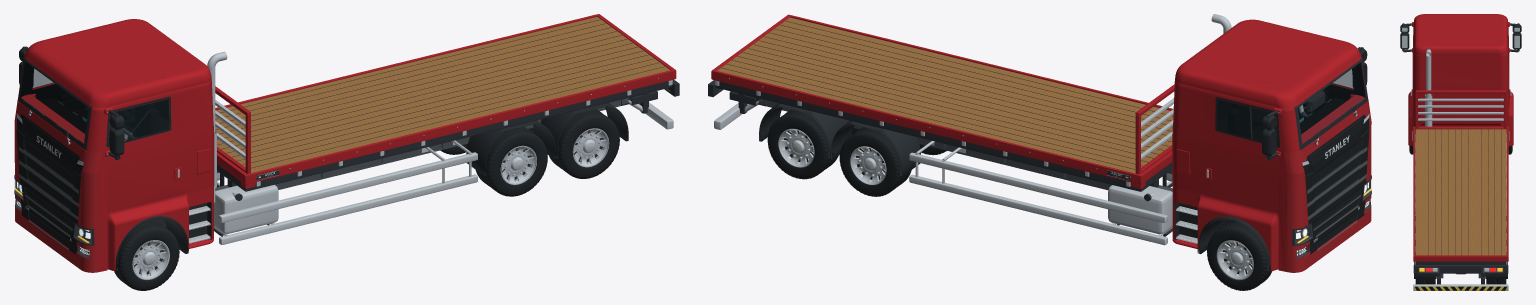
File: Truck (2).glb
3 renders of one model, left to right at view 1: azimuth 30°, elevation 25°; view 2: azimuth 150°, elevation 25°; view 3: azimuth 270°, elevation 25°, orthographic. The views are drawn at different scales.
Parts seen in each view (by area): view 1: Ascot deck_372, Seamless cab and high roof_12_73, Unified recessed front facade_20_65, Ascot bed rail_374, Ascot body subframe_360, Windscreen glass_14_3, Cab continuous smooth painted arch and lower body_118, Rounded radial tyre_17 axle 1_40, Ascot thick side protection rail_601, Ascot thick side protection rail_602, Rounded radial tyre_17 axle 2_57, Rounded radial tyre_17 axle 0_23 (+23 smaller); view 2: Ascot deck_372, Seamless cab and high roof_12_73, Unified recessed front facade_20_65, Ascot bed rail_373, Ascot body subframe_360, Windscreen glass_14_3, Cab continuous smooth painted arch and lower body_115, Rounded radial tyre_17 axle 1_40, Ascot thick side protection rail_554, Ascot thick side protection rail_555, Rounded radial tyre_17 axle 2_57, Rounded radial tyre_17 axle 0_23 (+24 smaller); view 3: Ascot deck_372, Seamless cab and high roof_12_73, Ascot one-piece standard rear light bar_377, Ascot bed end rail_376, Ascot rear bumper_392, Ascot headboard top cap_425, Ascot headboard square horizontal safety bar_429, Ascot body subframe_360, Cab continuous smooth painted arch and lower body_115, Cab continuous smooth painted arch and lower body_118, Rear bumper tape backing_393, Stanley round rearward exhaust_629 (+27 smaller).
Boxes of the visible parts, box(x1,y1,x2,y2) form: Ascot deck_372: box(215, 17, 670, 173); Seamless cab and high roof_12_73: box(18, 19, 214, 212); Unified recessed front facade_20_65: box(14, 100, 101, 272); Ascot bed rail_374: box(247, 70, 674, 184); Ascot body subframe_360: box(217, 81, 672, 191); Windscreen glass_14_3: box(19, 60, 89, 145); Cab continuous smooth painted arch and lower body_118: box(107, 187, 211, 271); Rounded radial tyre_17 axle 1_40: box(440, 126, 547, 196); Ascot thick side protection rail_601: box(219, 174, 477, 244); Ascot thick side protection rail_602: box(219, 152, 477, 222); Rounded radial tyre_17 axle 2_57: box(528, 109, 619, 178); Rounded radial tyre_17 axle 0_23: box(114, 221, 179, 290); Ascot deck_372: box(717, 17, 1173, 173); Seamless cab and high roof_12_73: box(1172, 19, 1368, 212); Unified recessed front facade_20_65: box(1284, 101, 1371, 272); Ascot bed rail_373: box(713, 70, 1139, 184); Ascot body subframe_360: box(715, 81, 1172, 191); Windscreen glass_14_3: box(1297, 60, 1366, 145); Cab continuous smooth painted arch and lower body_115: box(1174, 187, 1279, 271); Rounded radial tyre_17 axle 1_40: box(839, 127, 946, 196); Ascot thick side protection rail_554: box(909, 174, 1167, 245); Ascot thick side protection rail_555: box(909, 152, 1167, 223); Rounded radial tyre_17 axle 2_57: box(767, 109, 858, 179); Rounded radial tyre_17 axle 0_23: box(1207, 221, 1271, 290); Ascot deck_372: box(1415, 129, 1506, 255); Seamless cab and high roof_12_73: box(1412, 14, 1509, 126); Ascot one-piece standard rear light bar_377: box(1413, 265, 1508, 273); Ascot bed end rail_376: box(1413, 255, 1508, 261); Ascot rear bumper_392: box(1413, 284, 1508, 290); Ascot headboard top cap_425: box(1415, 90, 1506, 93); Ascot headboard square horizontal safety bar_429: box(1418, 98, 1503, 101); Ascot body subframe_360: box(1415, 261, 1506, 264); Cab continuous smooth painted arch and lower body_115: box(1507, 92, 1513, 145); Cab continuous smooth painted arch and lower body_118: box(1408, 92, 1414, 145); Rear bumper tape backing_393: box(1415, 286, 1506, 290); Stanley round rearward exhaust_629: box(1426, 49, 1431, 96).
Size of the model in its own units: 11.52 by 3.83 by 3.3.
Materials: 33 (3 with a texture image).
